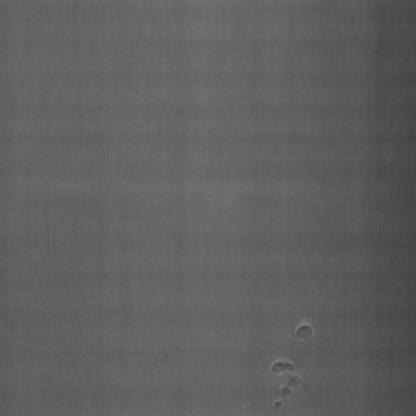rolled_pit: (292, 298, 320, 346), (265, 380, 302, 416), (268, 352, 300, 379)
